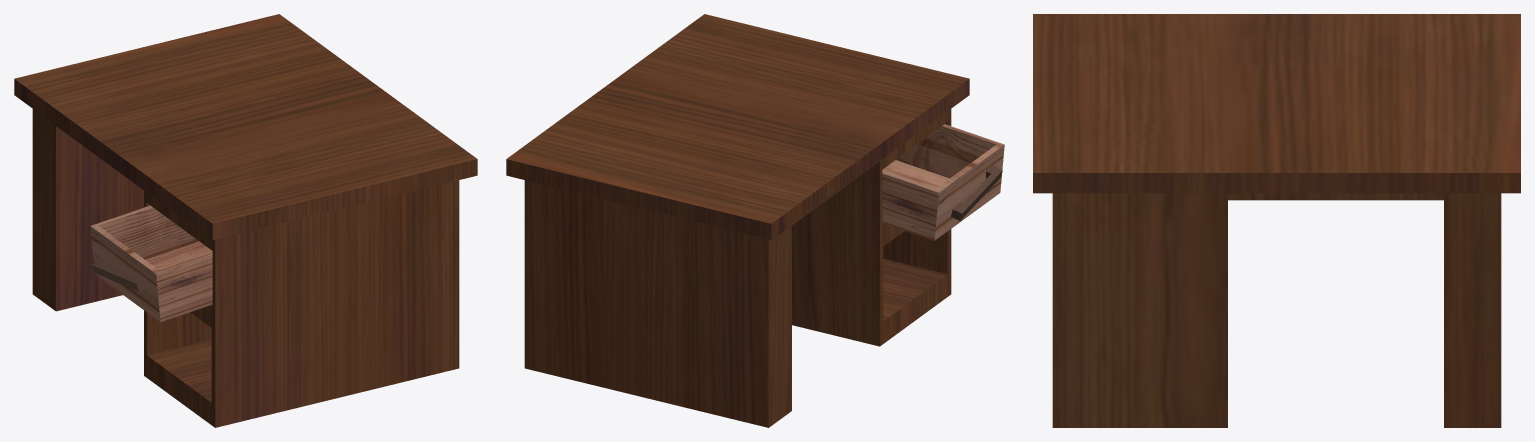
The model's file is Table.fbx.
3 views of the same model, side by side, from view 1: azimuth 30°, elevation 25°; view 2: azimuth 150°, elevation 25°; view 3: azimuth 270°, elevation 25° (orthographic). The views are drawn at different scales.
Parts seen in each view (by area): view 1: Table2; view 2: Table2; view 3: Table2.
Part boxes in pixels (left/top/right/bottom): Table2: left=14, top=14, right=477, bottom=427; Table2: left=506, top=14, right=1004, bottom=427; Table2: left=1033, top=14, right=1520, bottom=427.
Bounding box in the file's own units: 811 × 512 × 865.
Materials: 3 (2 with a texture image).
